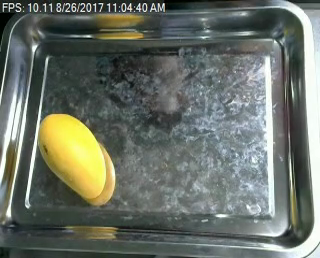Mango: (34, 110, 116, 204)
